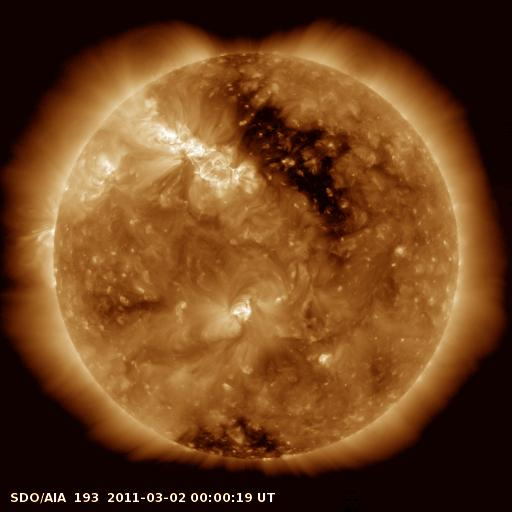coronal_hole: (214, 49, 356, 226), (173, 409, 292, 472)
